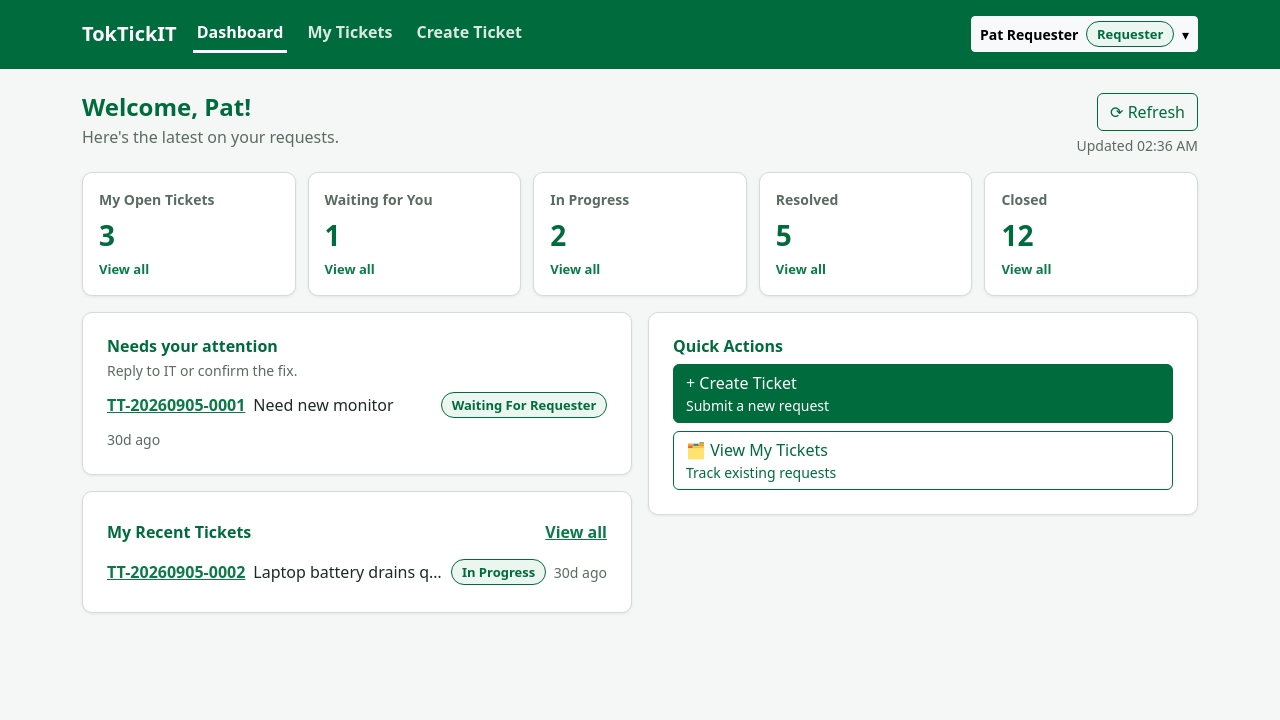
Test: Requester Dashboard — metric cards, lists, and drill-down (AC-25) › opens My Tickets unfiltered from 'View all' and Quick Actions
The image size is (1280, 720).
Check: the heading "Welcome, Pat!" is shown, box 82,90 -> 251,123
What coordinates should you click on to do the following:
click the button "🗂 View My Tickets Track existing requests"
I would click on:
 (757, 450)
Its box is 673,431 -> 1173,490.
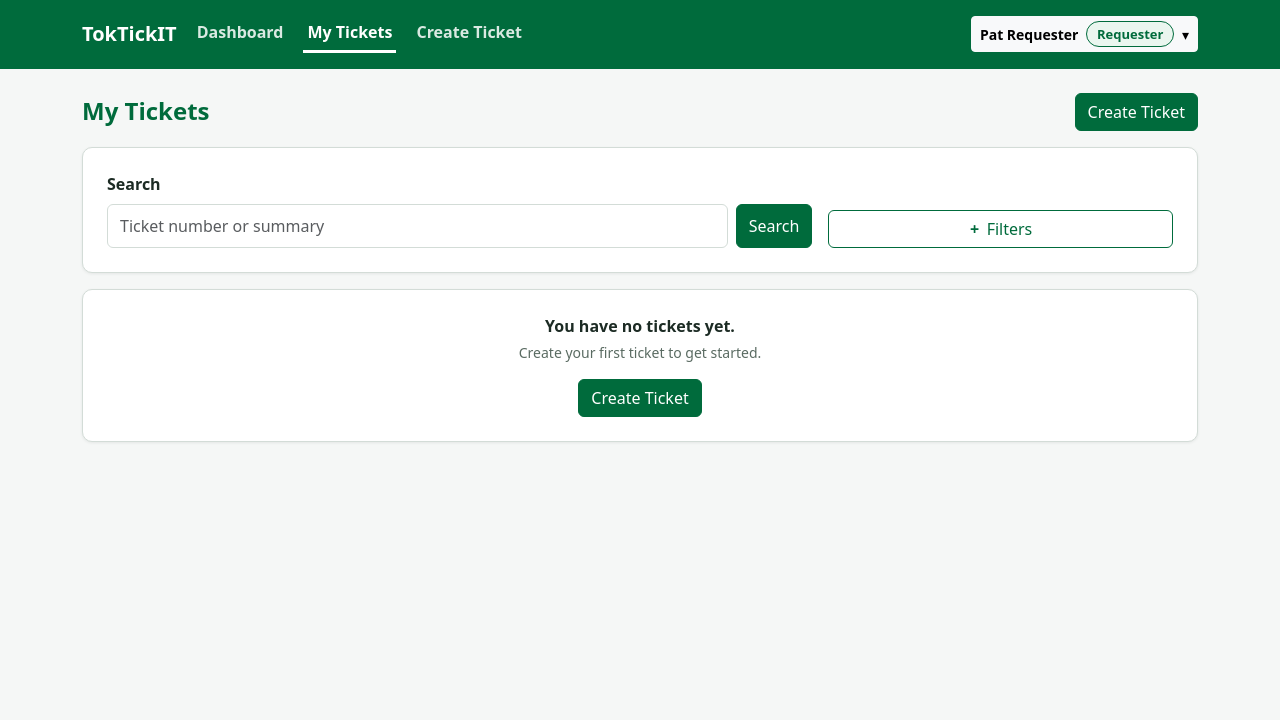
Check: the heading "My Tickets" is shown, box 82,97 -> 210,126
